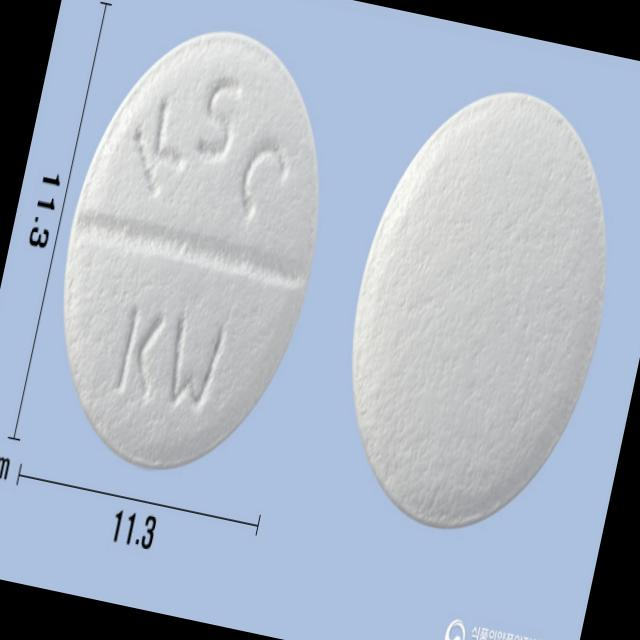K-Sacin: (25, 6, 357, 493), (315, 65, 640, 550)
